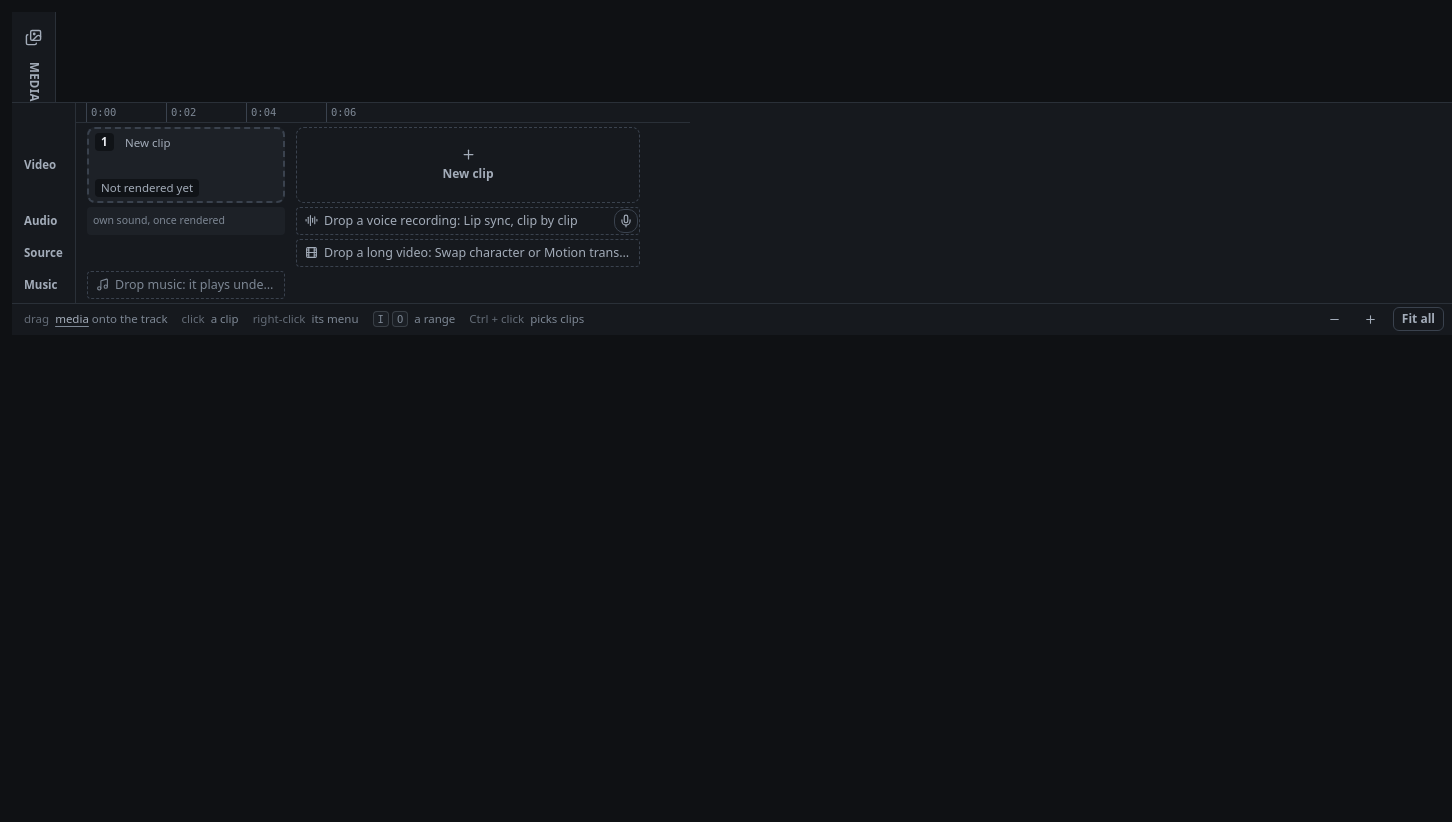
the timeline's Media strip, found without being told (card #67) › opens from a click anywhere on the strip, its word included, and Esc folds it away
This screenshot has width=1452, height=822.
# the word, not the icon: the whole strip is the button
Click the button "Media": [34, 57] box [12, 12, 56, 102]
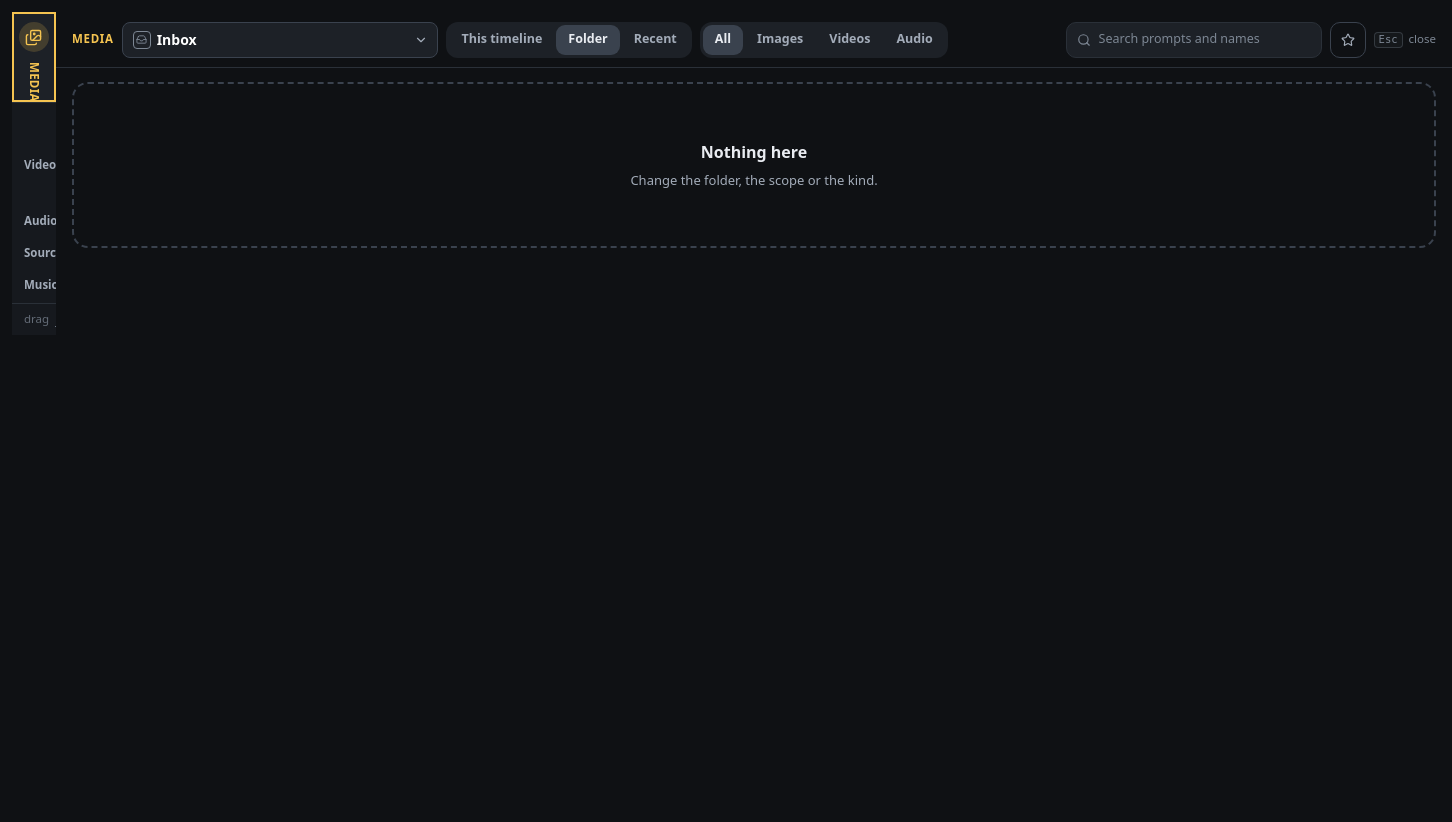
Expected: the element named "Your library" is shown
Press Escape
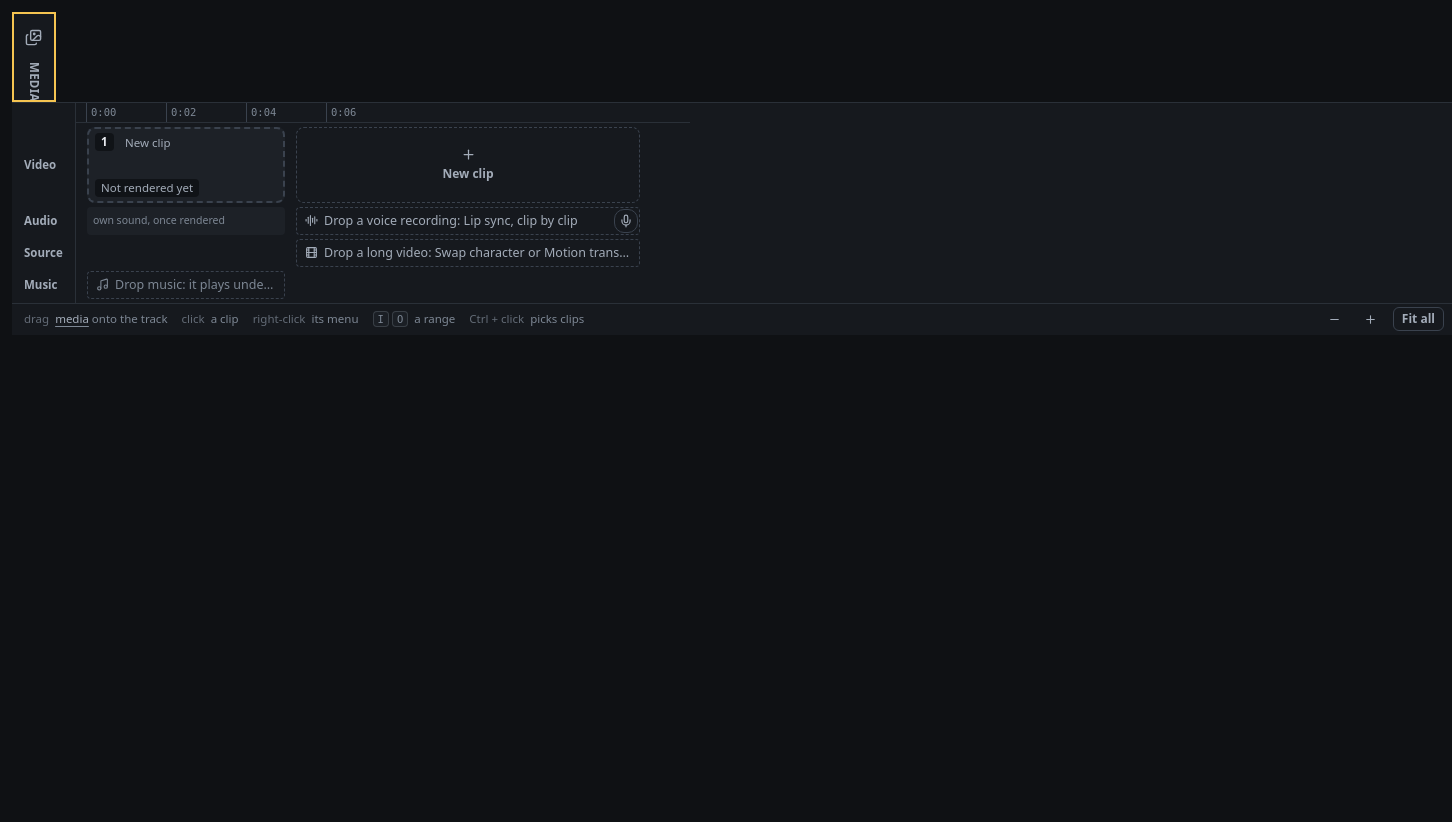
Press Enter
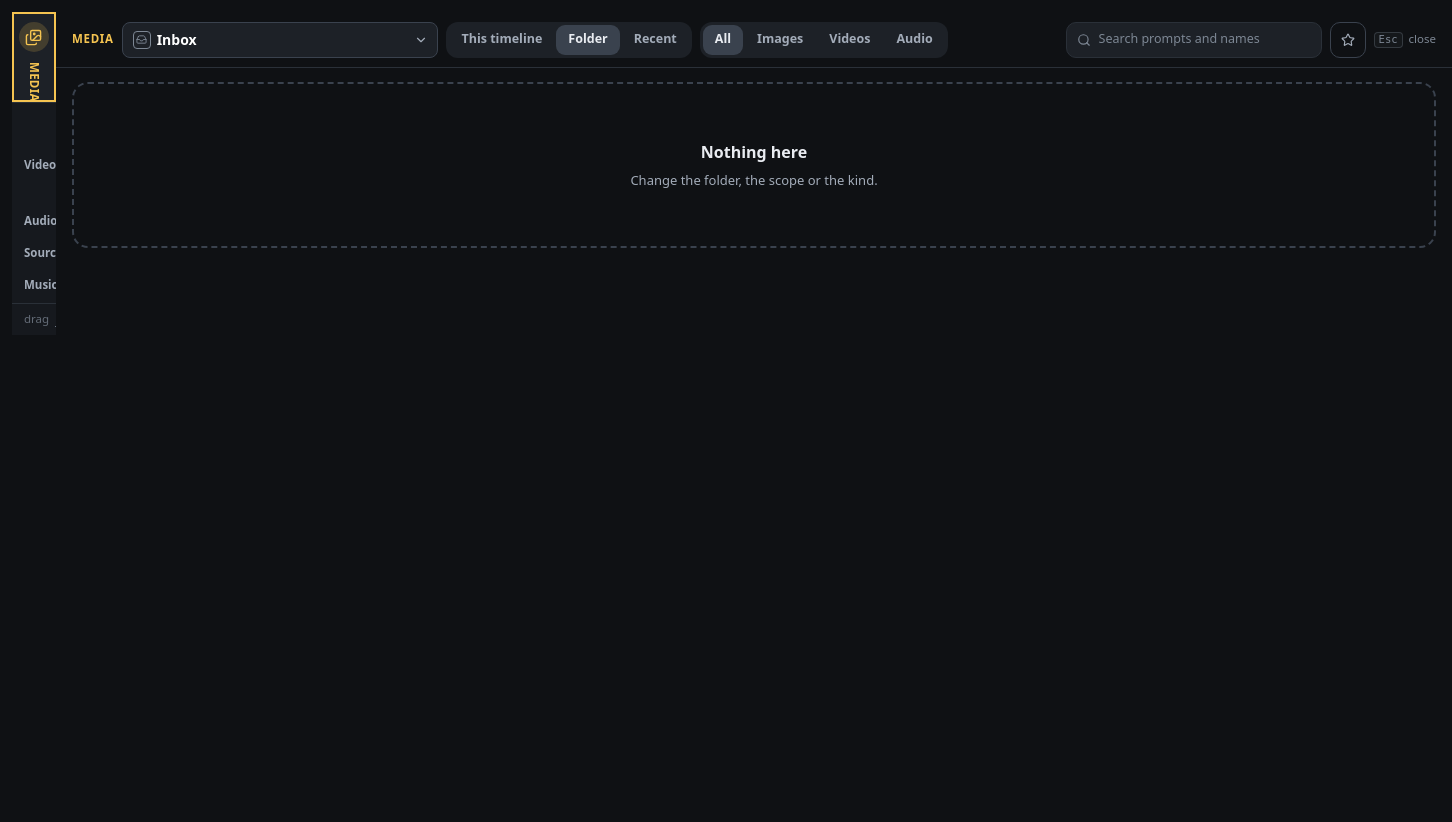
Expected: the element named "Your library" is shown
